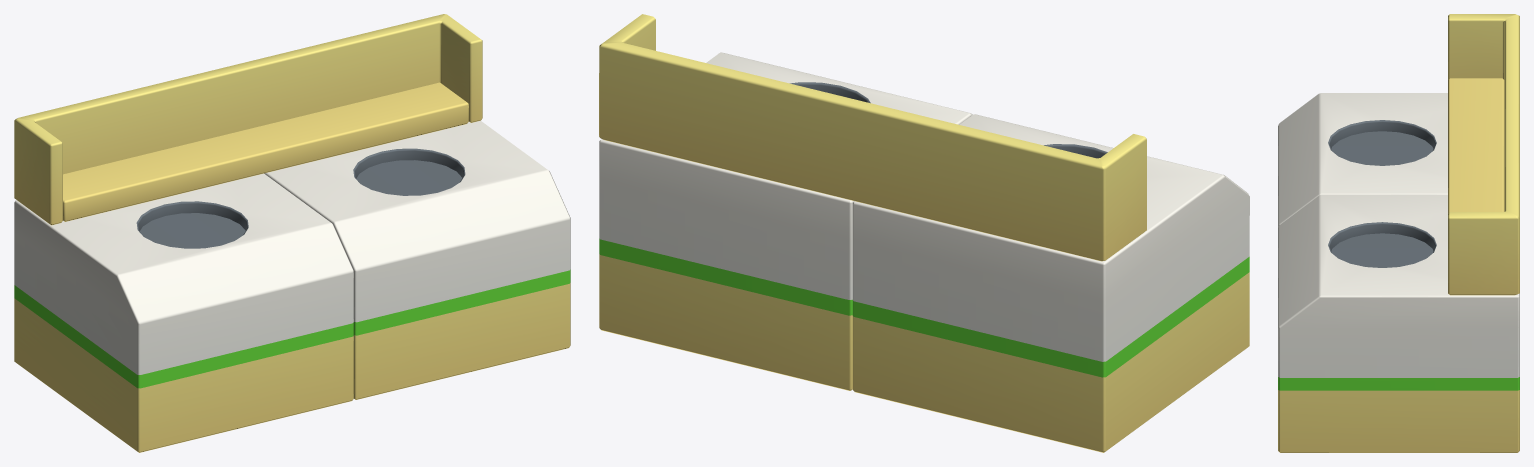
Rendered from Trash_Can.fbx.
The picture shows the model from 3 angles, left to right: view 1: azimuth 30°, elevation 25°; view 2: azimuth 150°, elevation 25°; view 3: azimuth 270°, elevation 25°; orthographic projection. The views are drawn at different scales.
Visible parts, largest first — view 1: Trash_Can; view 2: Trash_Can; view 3: Trash_Can.
Part boxes in pixels (x1,y1,x2,y2): Trash_Can: (14,14,570,452); Trash_Can: (599,14,1249,452); Trash_Can: (1278,14,1519,452).
Bounding box in the file's own units: 200 × 108 × 100.
